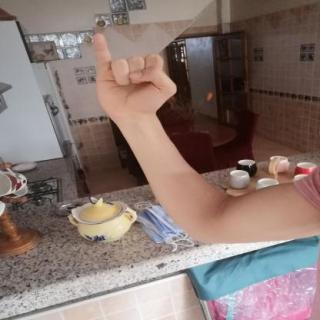MEEM: (80, 25, 190, 126)
